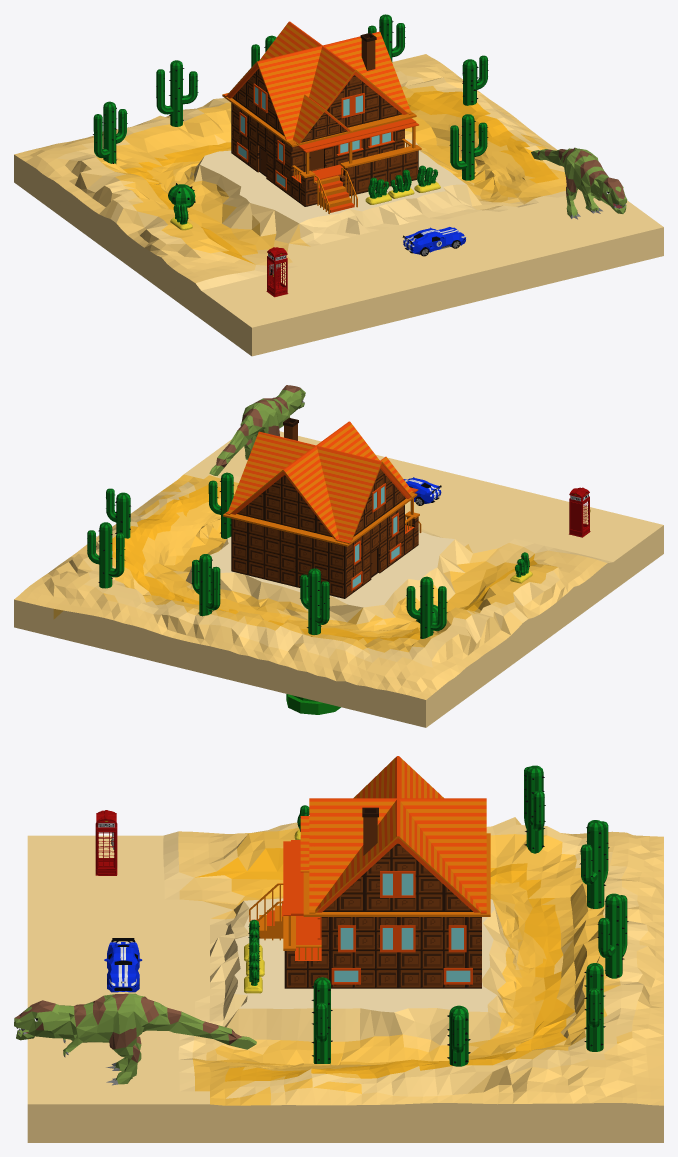
3 renders of one model, top to bottom at view 1: azimuth 30°, elevation 25°; view 2: azimuth 150°, elevation 25°; view 3: azimuth 270°, elevation 25°, orthographic. The views are drawn at different scales.
Visible parts, largest first — view 1: Cube.001, Cube, ANIMAL_TREX, Cylinder.044, Cylinder.037, Cylinder.045, VEHICLES_RACING_CAR, Cylinder.038, OBJRANDOM_PHONEBOOTH, Cylinder.042, Cylinder.039, Cylinder.041 (+1 smaller); view 2: Cube.001, Cube, ANIMAL_TREX, Cylinder.042, Cylinder.045, Cylinder.044, Cylinder.043, Cylinder.037, OBJRANDOM_PHONEBOOTH, Cylinder.038, UNDERGROUND_PIPES, VEHICLES_RACING_CAR; view 3: Cube.001, Cube, ANIMAL_TREX, Cylinder.043, Cylinder.044, VEHICLES_RACING_CAR, Cylinder.045, Cylinder.042, Cylinder.037, OBJRANDOM_PHONEBOOTH, Cylinder.038, Cylinder.041.
Part boxes in pixels (x1,y1,x2,y2): Cube.001: (14, 54, 663, 356); Cube: (222, 21, 421, 213); ANIMAL_TREX: (531, 147, 627, 219); Cylinder.044: (156, 60, 198, 126); Cylinder.037: (449, 114, 488, 180); Cylinder.045: (93, 101, 127, 163); VEHICLES_RACING_CAR: (402, 227, 465, 256); Cylinder.038: (462, 55, 488, 105); OBJRANDOM_PHONEBOOTH: (266, 247, 288, 297); Cylinder.042: (368, 14, 405, 62); Cylinder.039: (365, 177, 391, 204); Cylinder.041: (414, 165, 440, 192); Cube.001: (14, 431, 663, 727); Cube: (223, 417, 421, 598); ANIMAL_TREX: (209, 385, 305, 475); Cylinder.042: (87, 522, 125, 588); Cylinder.045: (406, 576, 447, 638); Cylinder.044: (300, 568, 329, 634); Cylinder.043: (191, 554, 220, 616); Cylinder.037: (208, 472, 237, 538); OBJRANDOM_PHONEBOOTH: (569, 487, 590, 537); Cylinder.038: (106, 488, 130, 538); UNDERGROUND_PIPES: (286, 694, 340, 714); VEHICLES_RACING_CAR: (403, 477, 441, 505); Cube.001: (27, 817, 663, 1142); Cube: (249, 756, 490, 988); ANIMAL_TREX: (14, 993, 256, 1085); Cylinder.043: (597, 893, 628, 978); Cylinder.044: (579, 820, 609, 908); VEHICLES_RACING_CAR: (104, 938, 142, 992); Cylinder.045: (524, 765, 545, 853); Cylinder.042: (584, 963, 605, 1051); Cylinder.037: (311, 977, 332, 1063); OBJRANDOM_PHONEBOOTH: (95, 810, 117, 875); Cylinder.038: (447, 1005, 470, 1066); Cylinder.041: (244, 951, 262, 993).
Bounding box in the file's own units: 4002 × 2210 × 4088.
38 materials, 3 textured.
